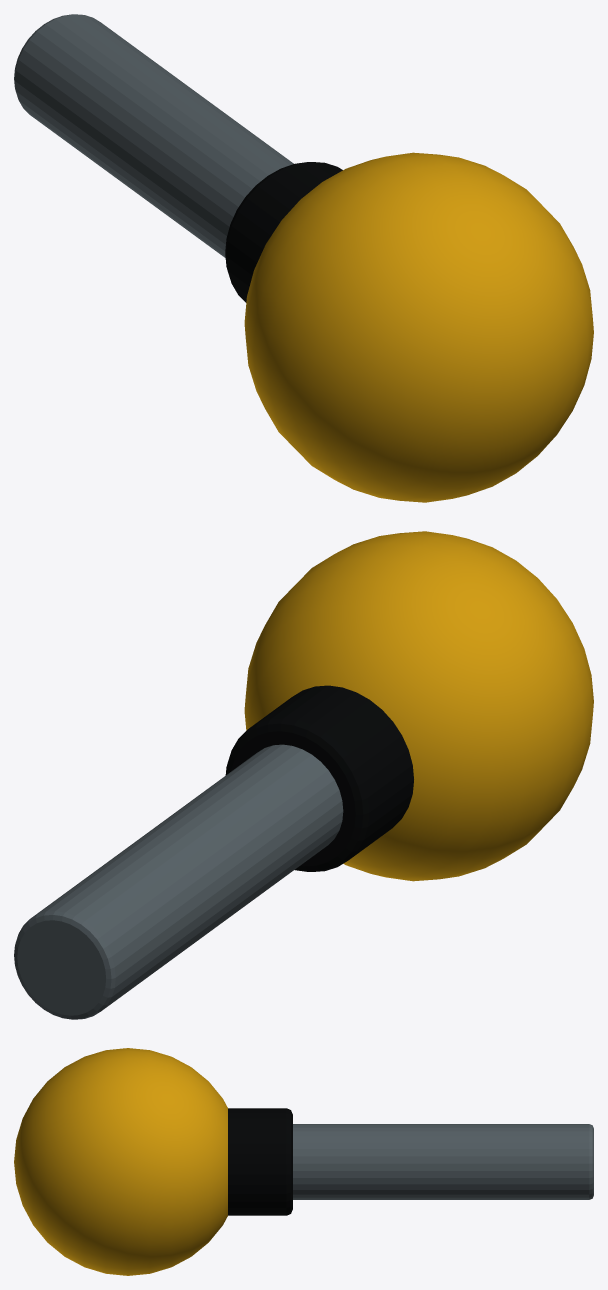
The model's file is SM_WinchJoystick.obj.
3 views of the same model, one above another, from view 1: azimuth 30°, elevation 25°; view 2: azimuth 150°, elevation 25°; view 3: azimuth 270°, elevation 25° (orthographic). The views are drawn at different scales.
Visible parts, largest first — view 1: SM_WinchJoystick; view 2: SM_WinchJoystick; view 3: SM_WinchJoystick.
Part boxes in pixels (left/top/right/bottom): SM_WinchJoystick: left=14, top=14, right=593, bottom=502; SM_WinchJoystick: left=14, top=531, right=593, bottom=1019; SM_WinchJoystick: left=14, top=1048, right=593, bottom=1275.
Bounding box in the file's own units: 7.2 × 7.2 × 18.3.
